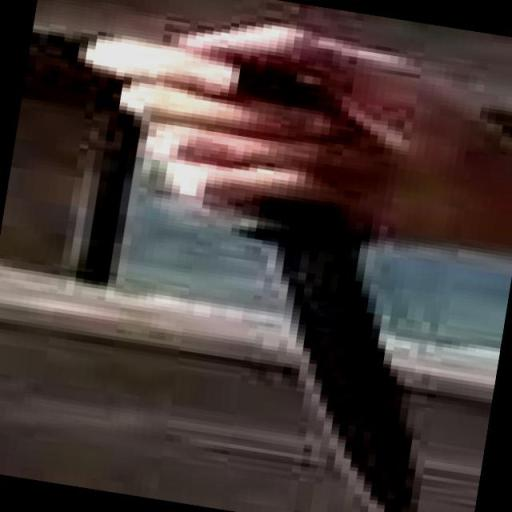knife: (88, 4, 510, 512)
